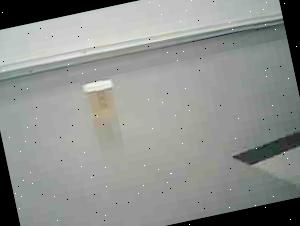Bottle B: (76, 70, 130, 134)
